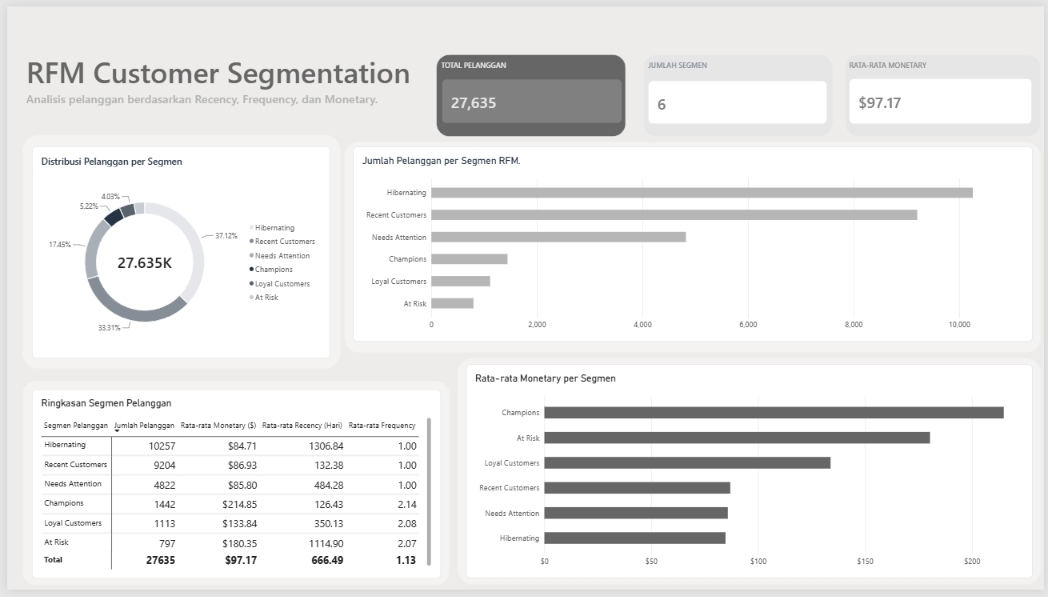

What the dashboard file says about the page in this screenshot:
{"tool":"powerbi","page":{"name":"Page 1","canvas":[1920,1080],"ordinal":0},"visuals":[{"type":"shape","box":[27.8,236.7,590,434.4],"z":0},{"type":"shape","box":[623.6,249.1,1290,391.8],"z":1000},{"type":"shape","box":[833.3,650,1081.7,421.7],"z":2000},{"type":"shape","box":[1176.9,89.2,351.5,152.3],"z":3000},{"type":"shape","box":[1551.1,88.9,362.2,152.2],"z":3500},{"type":"shape","box":[28,692,792,380],"z":4000},{"type":"shape","box":[795,88.8,351.2,152.5],"z":6000},{"type":"cardVisual","title":"TOTAL PELANGGAN","fields":{"Data":["Count(bigdata.user_id)"]},"box":[803.1,100,336.2,117.7],"z":7000},{"type":"cardVisual","title":"JUMLAH SEGMEN","fields":{"Data":["Count(bigdata.segmen_pelanggan)"]},"box":[1186.2,100,331.5,117.7],"z":8000},{"type":"cardVisual","title":"RATA-RATA MONETARY","fields":{"Data":["Avg(bigdata.monetary_nilai)"]},"box":[1560,100,338,118],"z":9000},{"type":"clusteredBarChart","title":"Jumlah Pelanggan per Segmen RFM.","fields":{"Category":["bigdata.segmen_pelanggan"],"Y":["CountNonNull(bigdata.user_id)"]},"box":[640,260,1258.3,361.7],"z":10000},{"type":"clusteredBarChart","title":"Rata-rata Monetary per Segmen","fields":{"Category":["bigdata.segmen_pelanggan"],"Y":["Avg(bigdata.monetary_nilai)"]},"box":[849.1,663.6,1049.1,396.4],"z":11000},{"type":"textbox","box":[35,85,760,150],"z":12000},{"type":"pivotTable","title":"Ringkasan Segmen Pelanggan","fields":{"Rows":["bigdata.segmen_pelanggan"],"Values":["Count(bigdata.user_id)","Avg(bigdata.monetary_nilai)","Avg(bigdata.recency_hari)","Avg(bigdata.frequency_pesanan)"]},"box":[46,710,756.7,350],"z":13000},{"type":"donutChart","title":"Distribusi Pelanggan per Segmen","fields":{"Category":["bigdata.segmen_pelanggan"],"Y":["Count(bigdata.user_id)"]},"box":[46.2,260,550.8,391.7],"z":14000}]}

Visuals, with their boxes in screenshot pixels (x1, y1, x2, y2), scaled from the page's 1920x1080 canvas onto the 1048x597 screenshot:
shape: [15, 131, 337, 371]
shape: [340, 138, 1045, 354]
shape: [455, 359, 1045, 592]
shape: [642, 49, 834, 133]
shape: [847, 49, 1044, 133]
shape: [15, 383, 448, 593]
shape: [434, 49, 626, 133]
"TOTAL PELANGGAN" cardVisual: [438, 55, 622, 120]
"JUMLAH SEGMEN" cardVisual: [647, 55, 828, 120]
"RATA-RATA MONETARY" cardVisual: [851, 55, 1036, 121]
"Jumlah Pelanggan per Segmen RFM." clusteredBarChart: [349, 144, 1036, 344]
"Rata-rata Monetary per Segmen" clusteredBarChart: [463, 367, 1036, 586]
textbox: [19, 47, 434, 130]
"Ringkasan Segmen Pelanggan" pivotTable: [25, 392, 438, 586]
"Distribusi Pelanggan per Segmen" donutChart: [25, 144, 326, 360]
